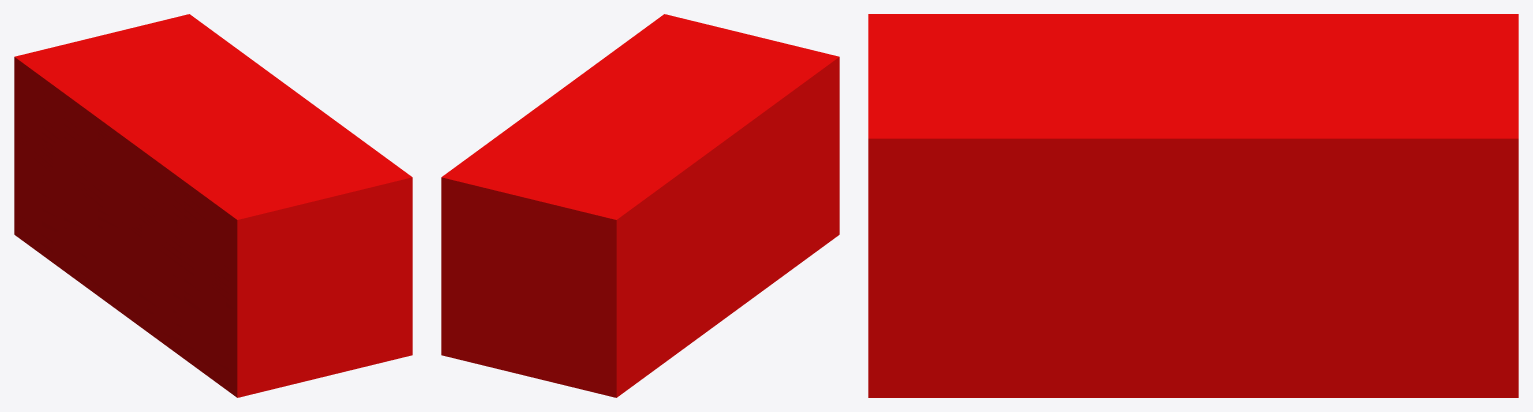
Rendered from arm_r_5distph_col.dae.
The picture shows the model from 3 angles, left to right: view 1: azimuth 30°, elevation 25°; view 2: azimuth 150°, elevation 25°; view 3: azimuth 270°, elevation 25°; orthographic projection. The views are drawn at different scales.
Parts seen in each view (by area): view 1: node0; view 2: node0; view 3: node0.
Boxes of the visible parts, left/top/right/bottom form: node0: left=14, top=14, right=412, bottom=397; node0: left=441, top=14, right=839, bottom=397; node0: left=868, top=14, right=1518, bottom=397.
Bounding box in the file's own units: 0.00668 × 0.00648 × 0.0147.
